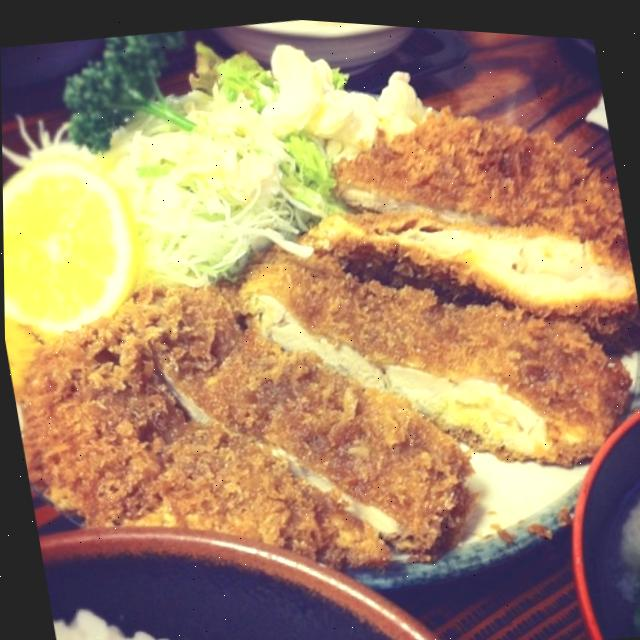鸡肉料理 含炸鸡: (0, 7, 640, 632)
